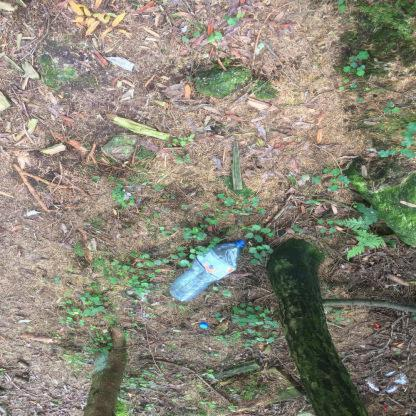Bottle: (199, 322, 208, 328)
Bottle cap: (169, 240, 246, 302)
